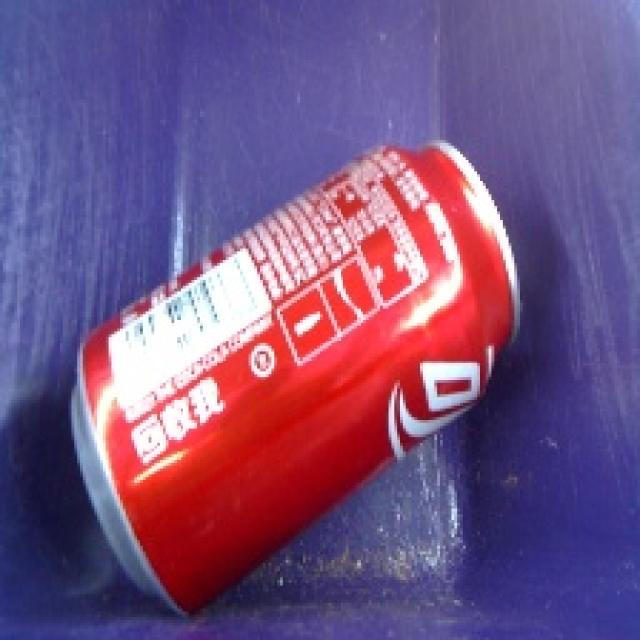metal: (44, 116, 544, 635)
